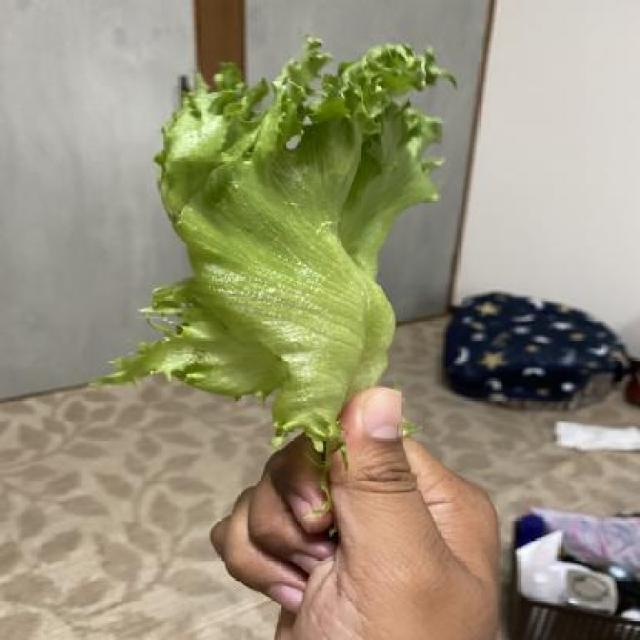Lettuce head: (86, 36, 462, 538)
